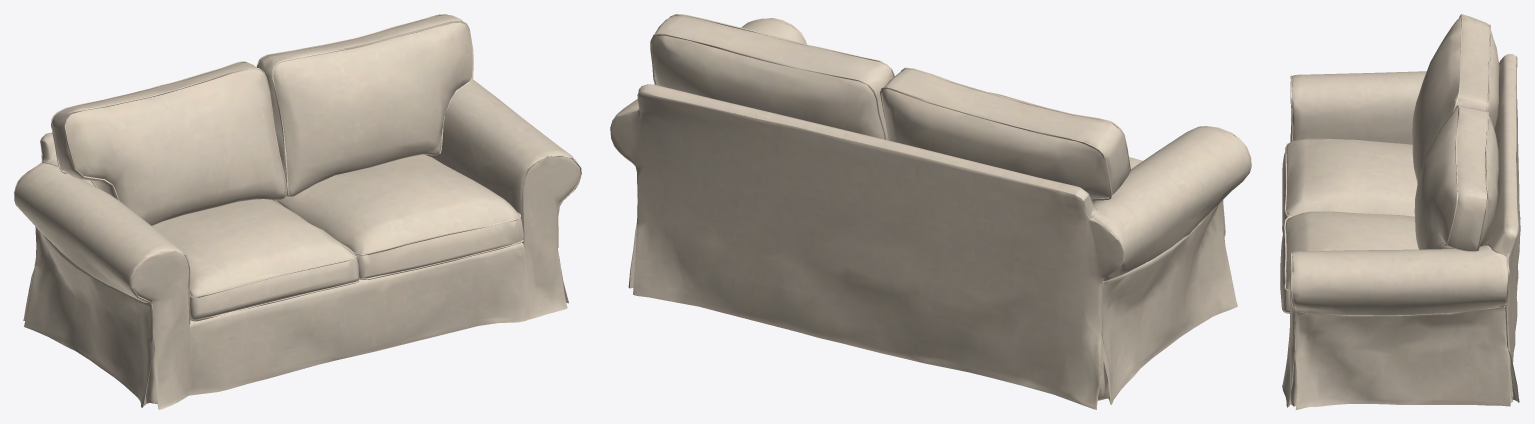
3 views of the same model, side by side, from view 1: azimuth 30°, elevation 25°; view 2: azimuth 150°, elevation 25°; view 3: azimuth 270°, elevation 25° (orthographic). The views are drawn at different scales.
Visible parts, largest first — view 1: Mesh_0; view 2: Mesh_0; view 3: Mesh_0.
Boxes of the visible parts, box(x1,y1,x2,y2) form: Mesh_0: box(14, 14, 581, 409); Mesh_0: box(610, 14, 1251, 409); Mesh_0: box(1280, 14, 1520, 409).
Size of the model in its own units: 1.79 by 0.88 by 0.88.
2 materials, 2 textured.
